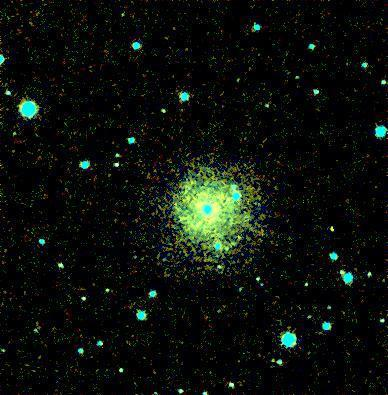star: (321, 213, 351, 243)
